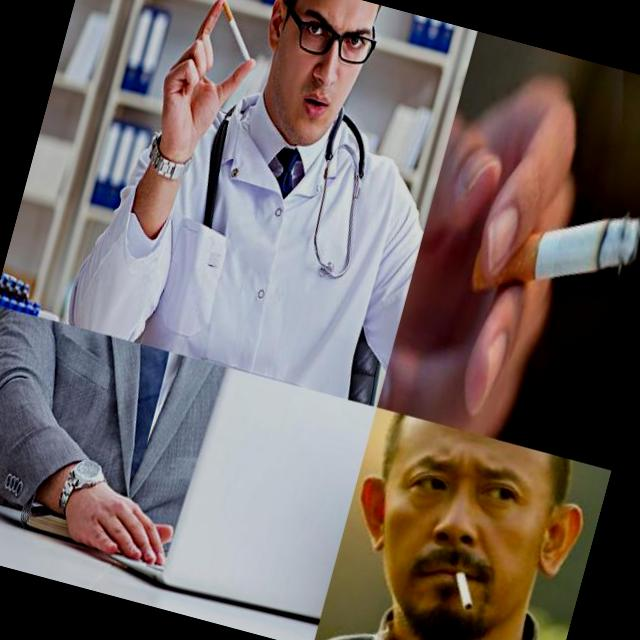cigarette: (465, 177, 640, 332), (204, 0, 265, 63), (448, 562, 492, 614)
